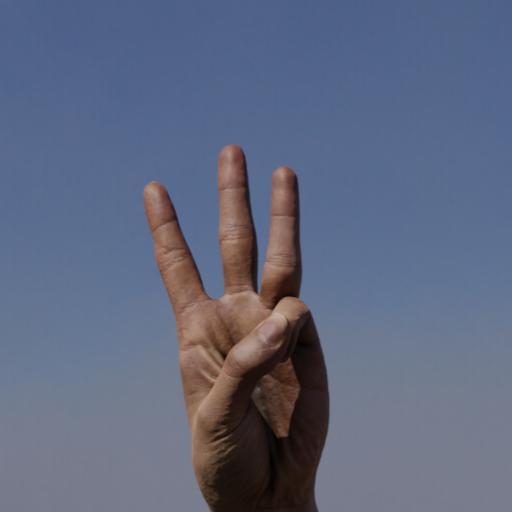W: (138, 138, 332, 508)
